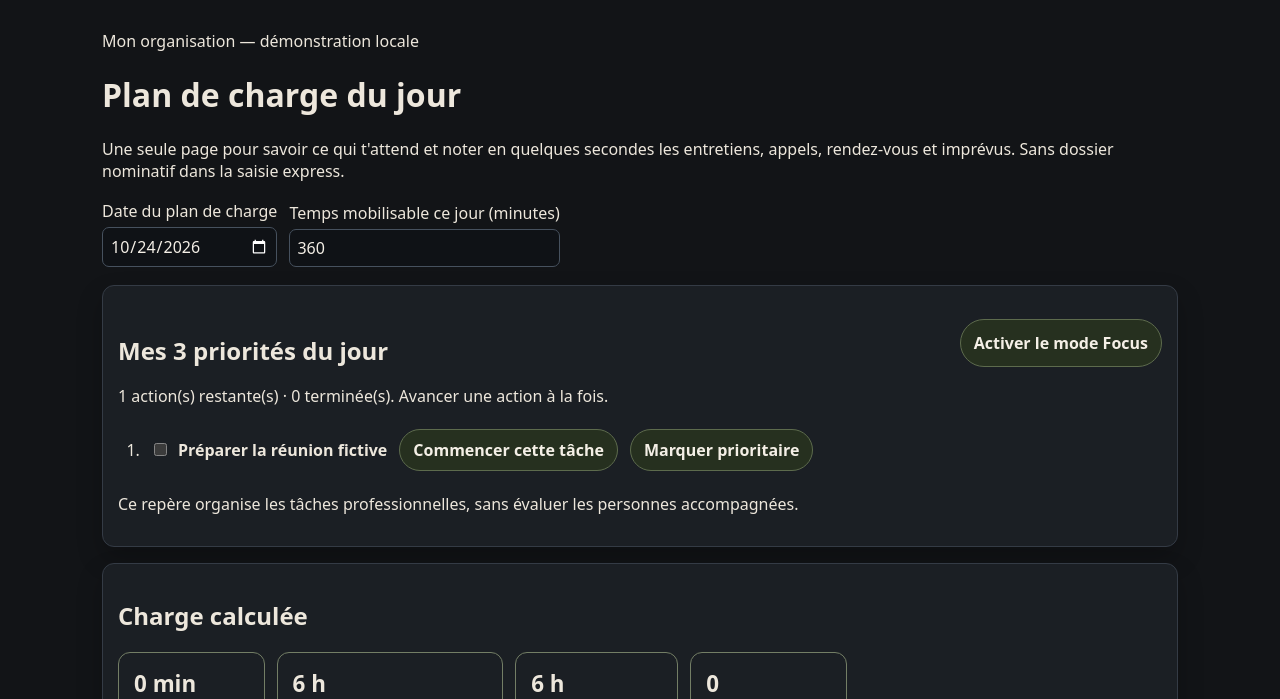
Test: bureau de charge et saisie express (démonstration) › garde la dernière tâche commencée et permet de la reprendre après une interruption
Click the button "Commencer cette tâche": (509, 450) [399, 429, 618, 471]
(page scrolled)
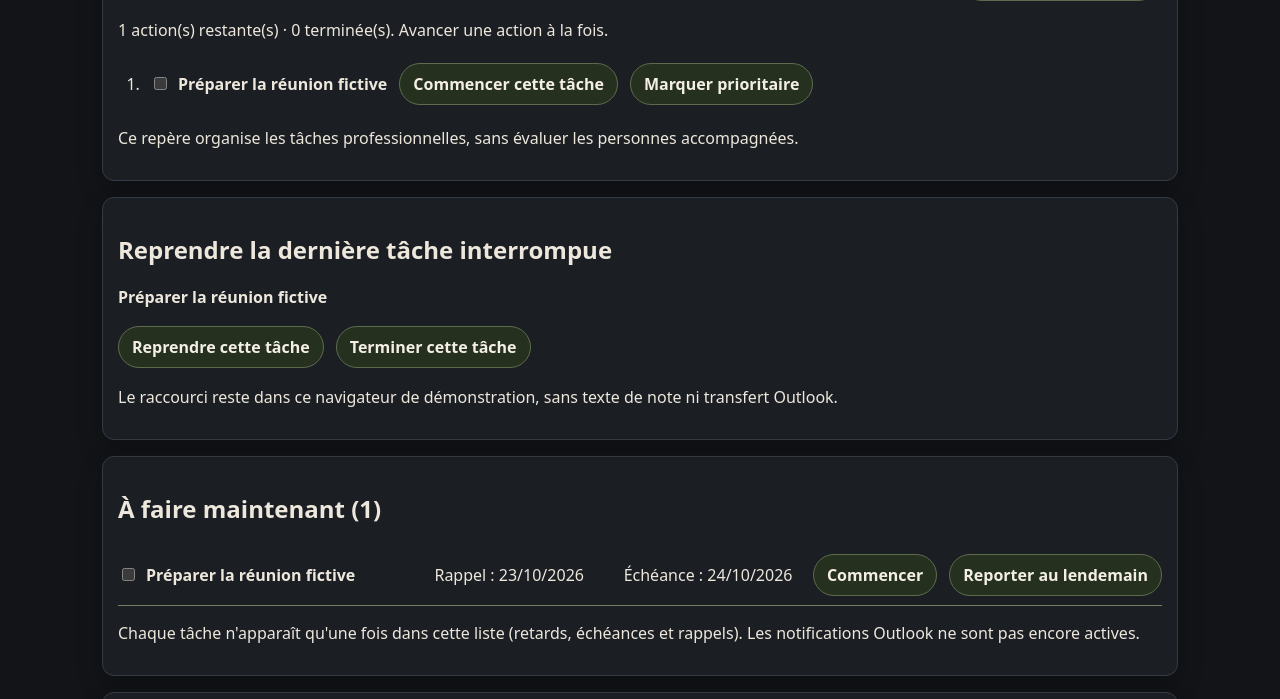
Check: the heading "Reprendre la dernière tâche interrompue" is shown, box [118, 233, 612, 266]
Check: the button "Reprendre cette tâche" is shown, box [118, 326, 324, 368]
Click the button "Terminer cette tâche": (433, 347) [336, 326, 530, 368]
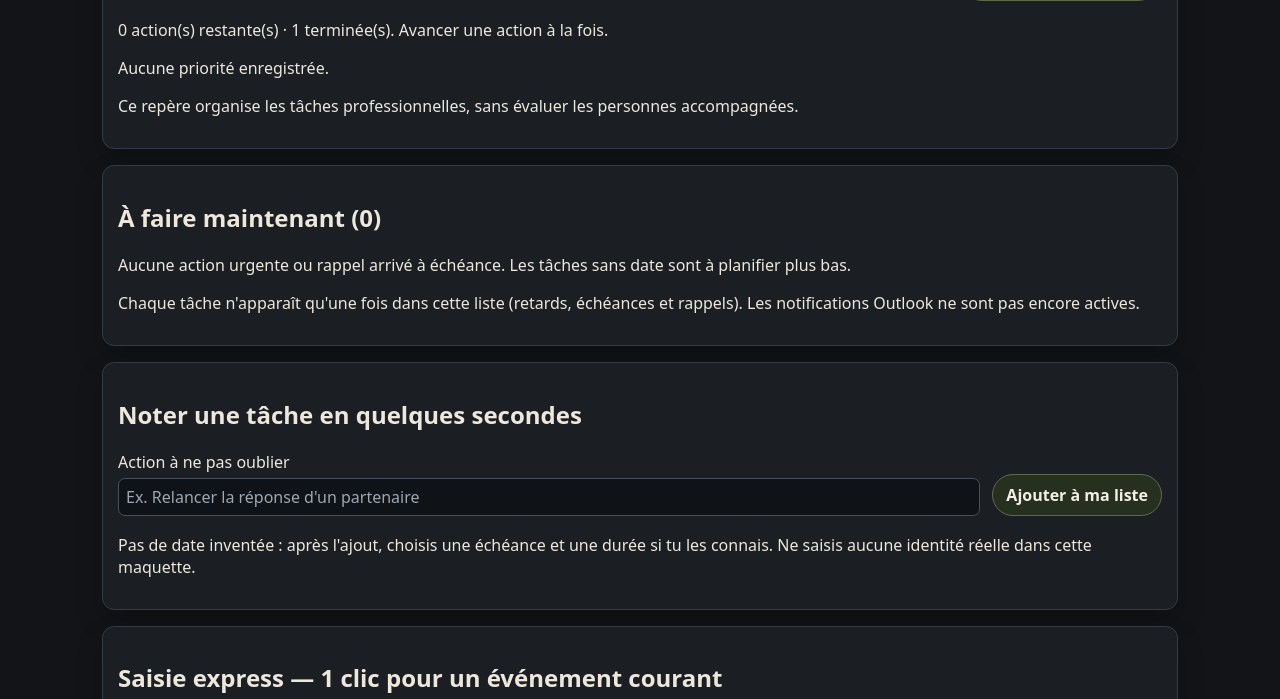
Check: the heading "Reprendre la dernière tâche interrompue" is gone
